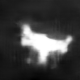plane: (18, 20, 75, 68)
